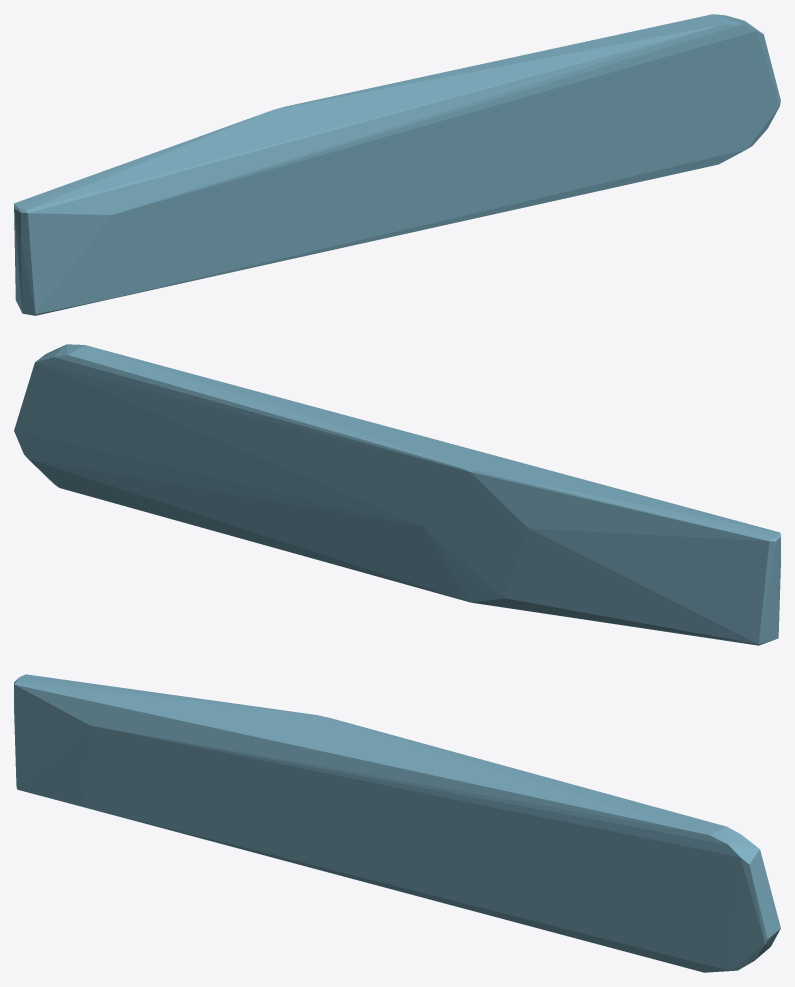
The model's file is handTool_wrench_1_2in_b01.glb.
The picture shows the model from 3 angles, top to bottom: view 1: azimuth 30°, elevation 25°; view 2: azimuth 150°, elevation 25°; view 3: azimuth 330°, elevation 25°; orthographic projection.
Parts seen in each view (by area): view 1: geometry_0; view 2: geometry_0; view 3: geometry_0.
Boxes of the visible parts, x1,y1,x2,y2 form: geometry_0: [14, 14, 780, 315]; geometry_0: [14, 344, 780, 645]; geometry_0: [14, 674, 780, 972].
Bounding box in the file's own units: 0.4798 × 0.0837 × 0.0371.
